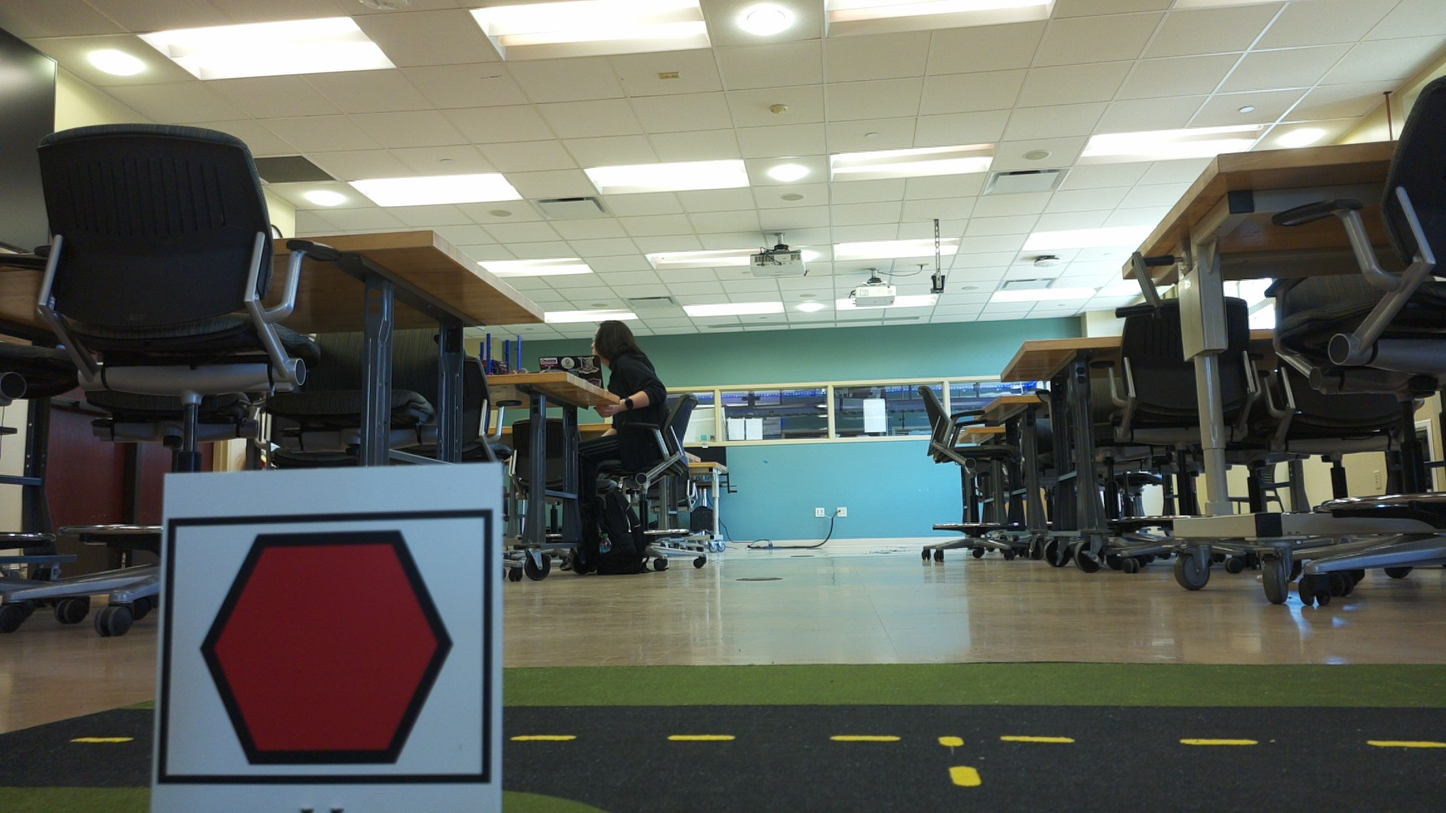stop: (189, 520, 467, 777)
yellowline: (518, 731, 1446, 748), (934, 732, 983, 791)
